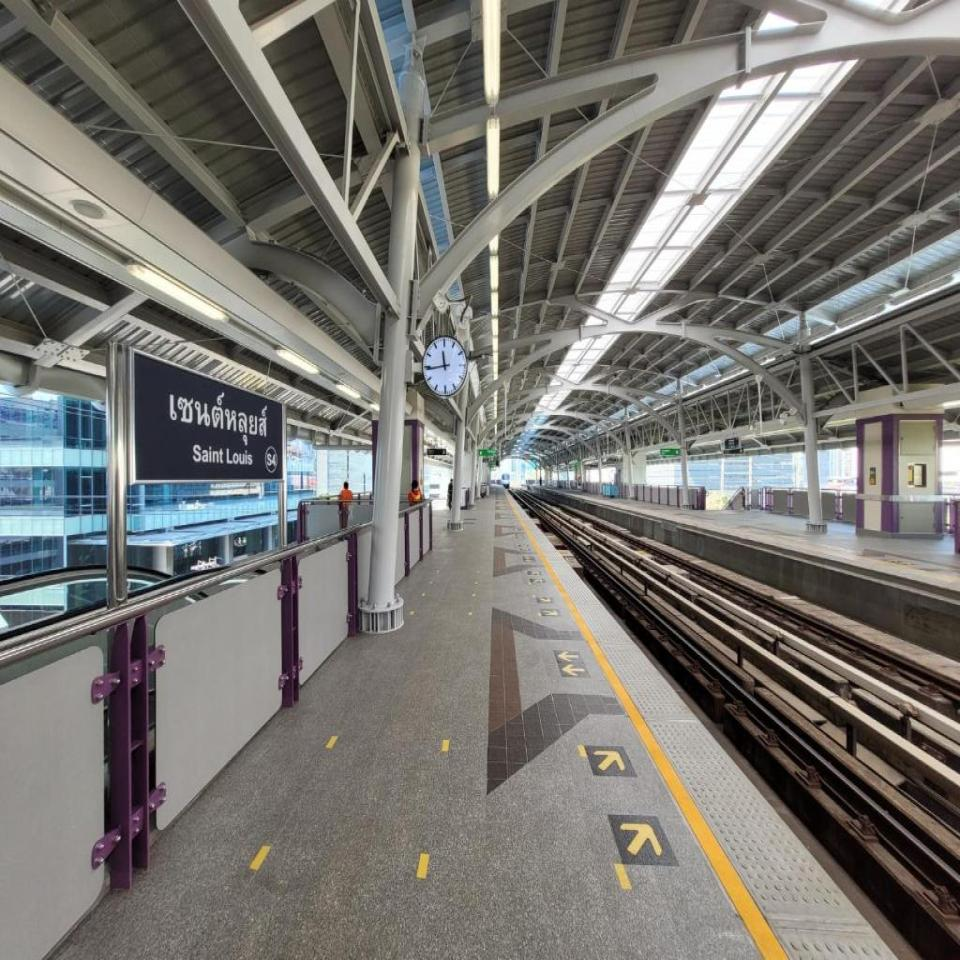Saint Louis: (125, 344, 285, 484)
